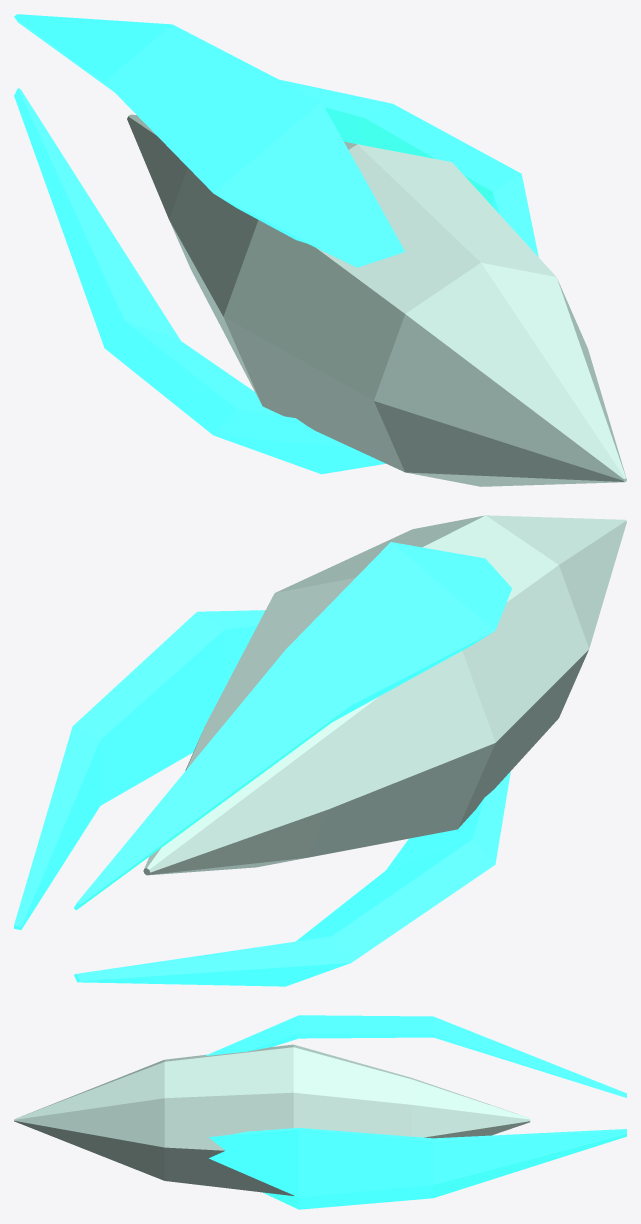
Rendered from VFX_SpiritBolt_A.fbx.
3 views of the same model, one above another, from view 1: azimuth 30°, elevation 25°; view 2: azimuth 150°, elevation 25°; view 3: azimuth 270°, elevation 25° (orthographic). The views are drawn at different scales.
Parts seen in each view (by area): view 1: VFX_SpiritBolt_A; view 2: VFX_SpiritBolt_A; view 3: VFX_SpiritBolt_A.
Boxes of the visible parts, left/top/right/bottom form: VFX_SpiritBolt_A: left=14, top=14, right=626, bottom=486; VFX_SpiritBolt_A: left=14, top=515, right=626, bottom=986; VFX_SpiritBolt_A: left=14, top=1015, right=626, bottom=1209.
Bounding box in the file's own units: 17.28 × 19.95 × 57.
